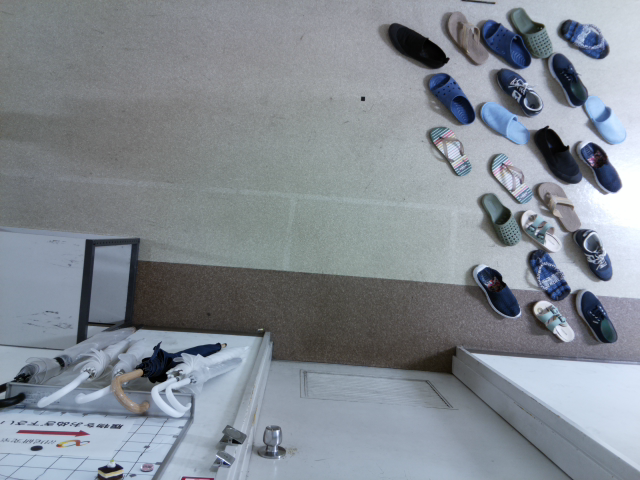Copy of Copy of Copy of Copy of Copy of Copy of Copy of sandal: (446, 11, 489, 65)
Copy of Copy of Copy of Copy of Copy of Copy of Copy of shoes: (472, 263, 521, 318)
Copy of Copy of Copy of Copy of Copy of Copy of sandal: (532, 300, 575, 342)
Copy of Copy of Copy of Copy of Copy of Copy of shoes: (575, 288, 618, 344)
Copy of Copy of Copy of Copy of Copy of sandal: (528, 248, 570, 300)
Copy of Copy of Copy of Copy of Copy of shoes: (573, 228, 613, 282)
Copy of Copy of Copy of Copy of Copy of slipper: (583, 94, 626, 144)
Copy of Copy of Copy of Copy of sandal: (520, 208, 562, 252)
Copy of Copy of Copy of Copy of shoes: (533, 125, 583, 183)
Copy of Copy of Copy of Copy of slipper: (479, 100, 530, 145)
Copy of Copy of Copy of sandal: (536, 181, 582, 231)
Copy of Copy of Copy of shoes: (576, 139, 622, 193)
Copy of Copy of Copy of slipper: (508, 6, 553, 59)
Copy of Copy of sandal: (428, 125, 472, 177)
Copy of Copy of shoes: (547, 52, 588, 106)
Copy of Copy of slipper: (480, 191, 521, 246)
Copy of sandal: (491, 152, 533, 204)
Copy of shoes: (495, 68, 543, 115)
Copy of slipper: (426, 71, 475, 124)
sandal: (559, 17, 610, 59)
shoes: (387, 22, 449, 69)
slipper: (481, 19, 532, 69)
